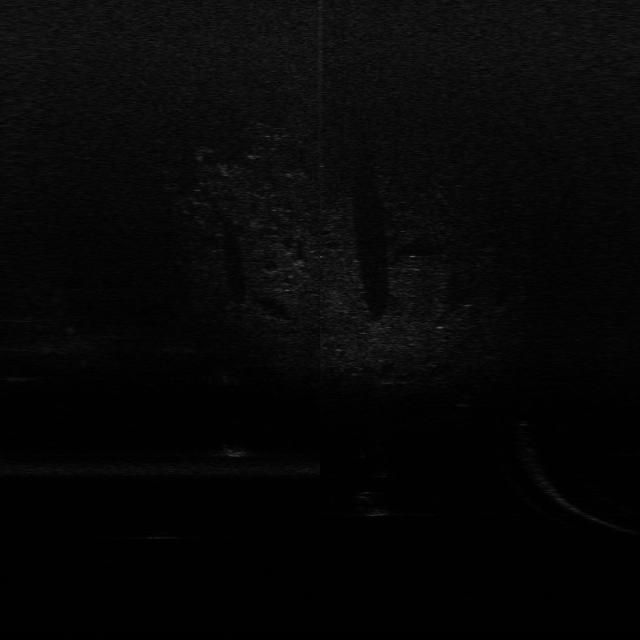square cage: (220, 434, 260, 459)
tyre: (357, 472, 413, 518)
